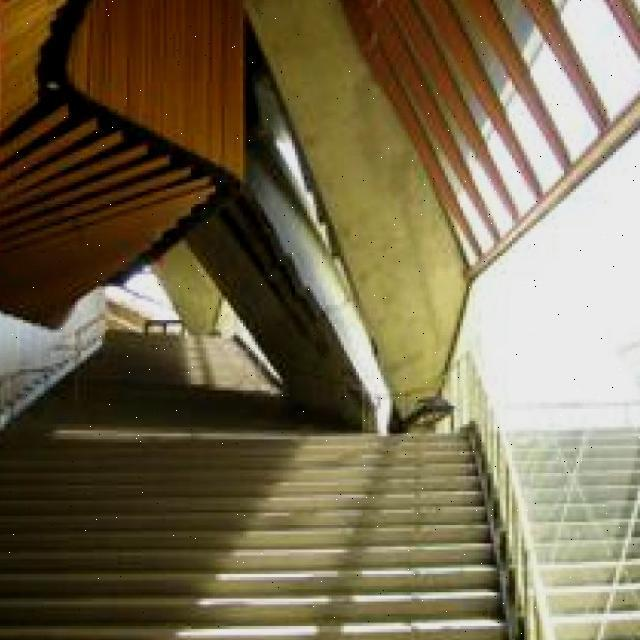stair: (26, 503, 420, 640)
